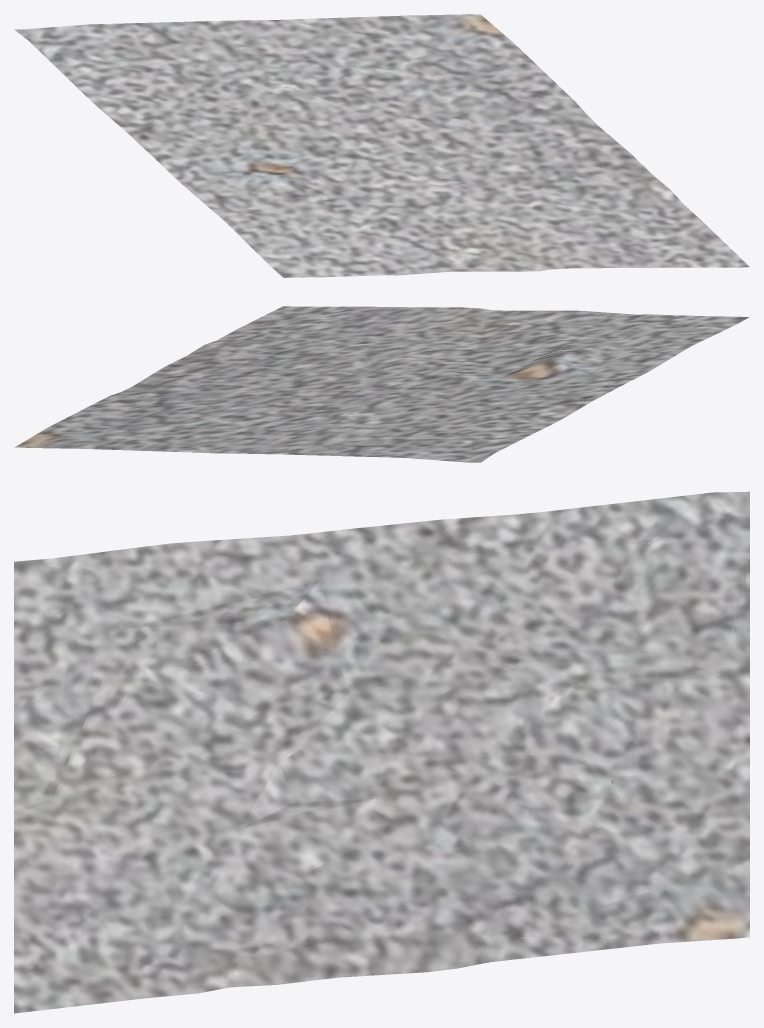
The picture shows the model from 3 angles, top to bottom: view 1: azimuth 30°, elevation 25°; view 2: azimuth 150°, elevation 25°; view 3: azimuth 270°, elevation 25°; orthographic projection. The views are drawn at different scales.
Bounding box in the file's own units: 0.8373 × 0.265 × 0.8373.
Materials: 3 (3 with a texture image).
